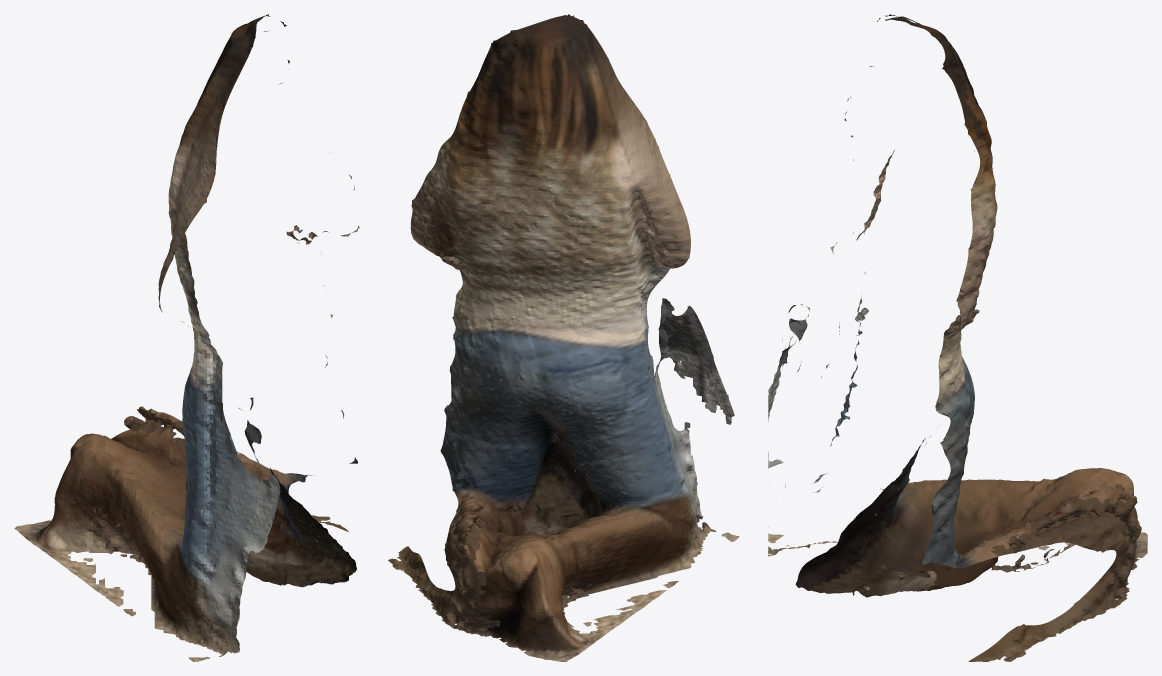
3 views of the same model, side by side, from view 1: azimuth 30°, elevation 25°; view 2: azimuth 150°, elevation 25°; view 3: azimuth 270°, elevation 25° (orthographic). The views are drawn at different scales.
Bounding box in the file's own units: 0.4996 × 1.07 × 0.6291.
Materials: 1 (1 with a texture image).
